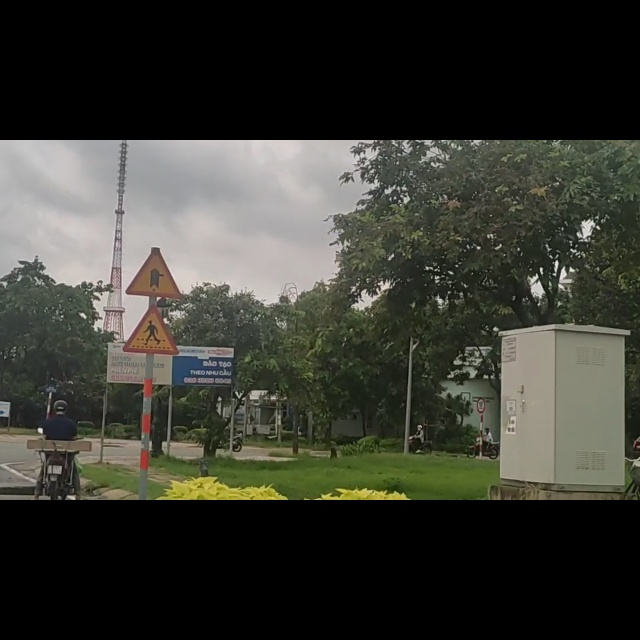bien_nguy_hiem: (126, 193, 187, 282), (123, 294, 181, 382)
